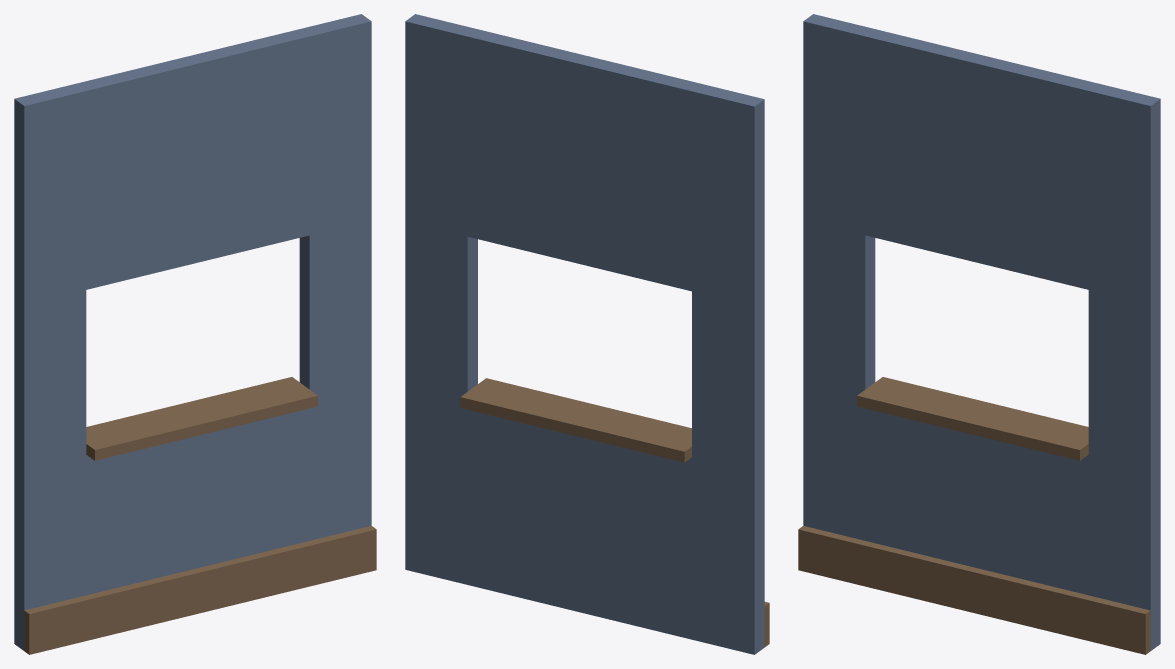
File: Mesh_WallBaseboard_E3.fbx
3 views of the same model, side by side, from view 1: azimuth 30°, elevation 25°; view 2: azimuth 150°, elevation 25°; view 3: azimuth 330°, elevation 25° (orthographic).
Visible parts, largest first — view 1: Mesh_WallBaseboard_E3; view 2: Mesh_WallBaseboard_E3; view 3: Mesh_WallBaseboard_E3.
Boxes of the visible parts, box(x1,y1,x2,y2) form: Mesh_WallBaseboard_E3: box(14, 14, 376, 654); Mesh_WallBaseboard_E3: box(405, 14, 769, 654); Mesh_WallBaseboard_E3: box(798, 14, 1160, 654).
Bounding box in the file's own units: 2 × 3 × 0.2574.
